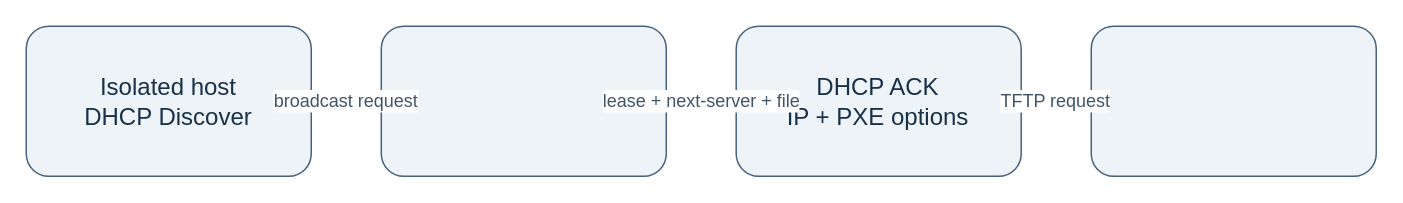
The diagram is 1403 pixels wide and 203 high, and some of its shapes have lost their labels. Here are the shapes that lost their labels. From the top down, the centre of each, then its label:
the point at 523,100: FortiNAC-F KEA DHCP scope
the point at 1233,100: TFTP server boot program
